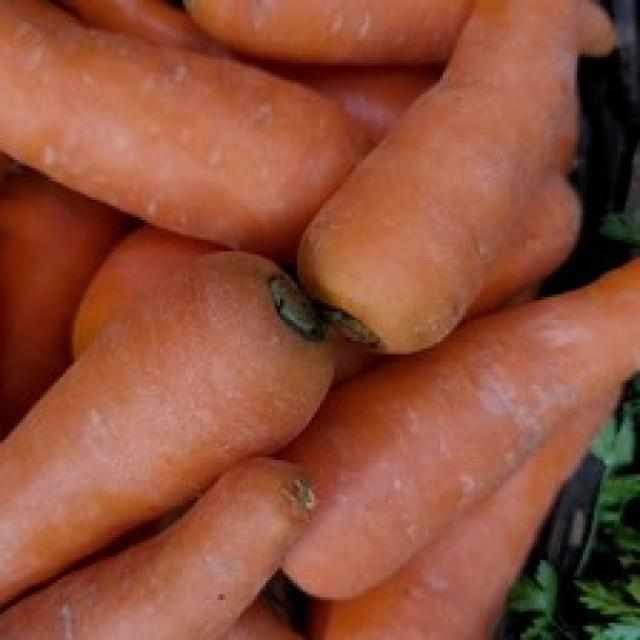Fresh_Carrot: (0, 253, 333, 593), (312, 255, 640, 587), (311, 0, 571, 347), (0, 2, 371, 241), (0, 466, 302, 637)
